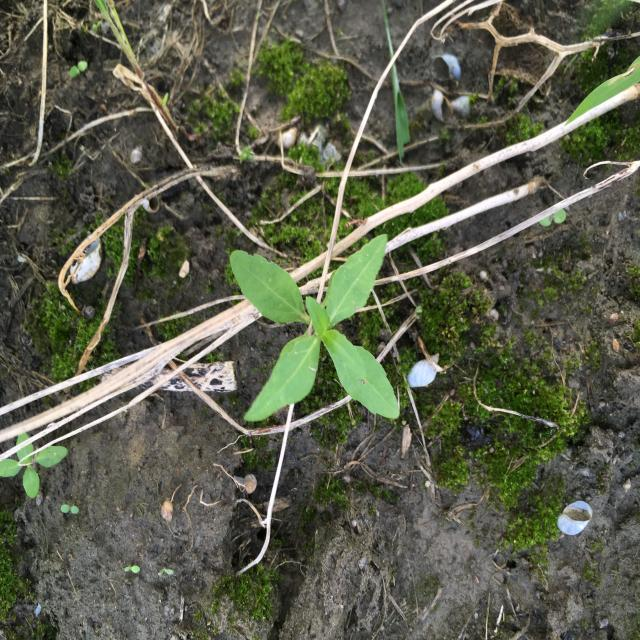Eclipta: (228, 233, 401, 424), (0, 429, 70, 498)
